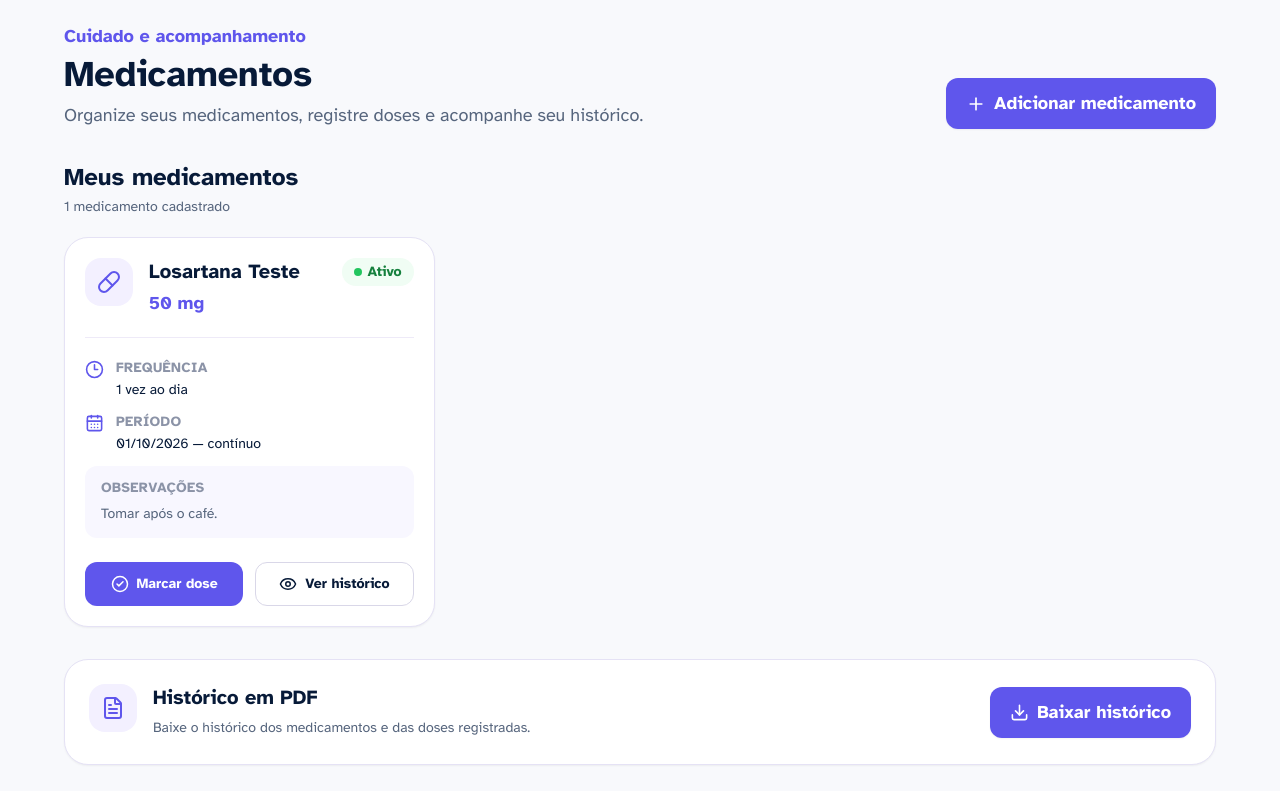
Remedios - histórico › abre o histórico do medicamento
The image size is (1280, 791).
Click the button "Ver histórico" at (334, 584), box [255,562,414,606]
(page scrolled)
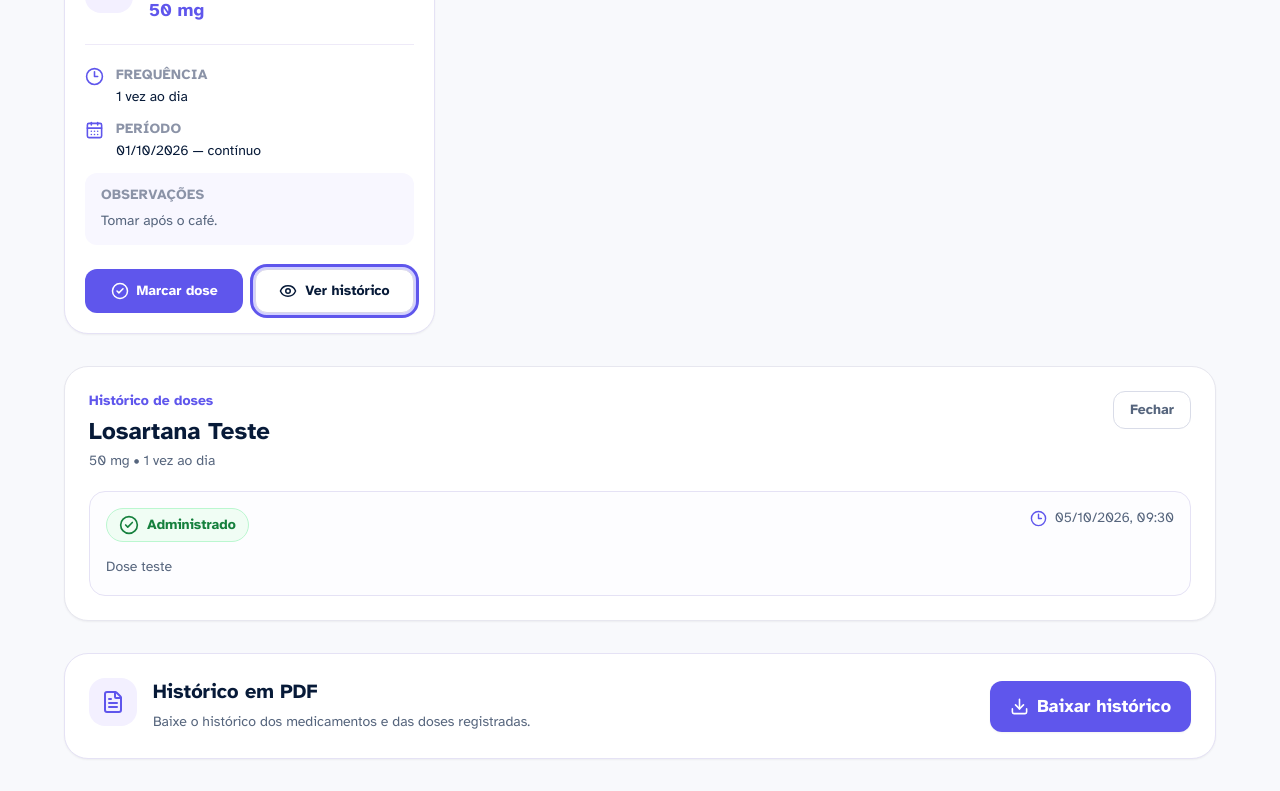
Check: the text "Histórico de doses" is shown, box [89,392,213,409]
Check: the text "Dose teste" is shown, box [106,558,172,575]
Check: the text "Administrado" is shown, box [106,508,249,542]
